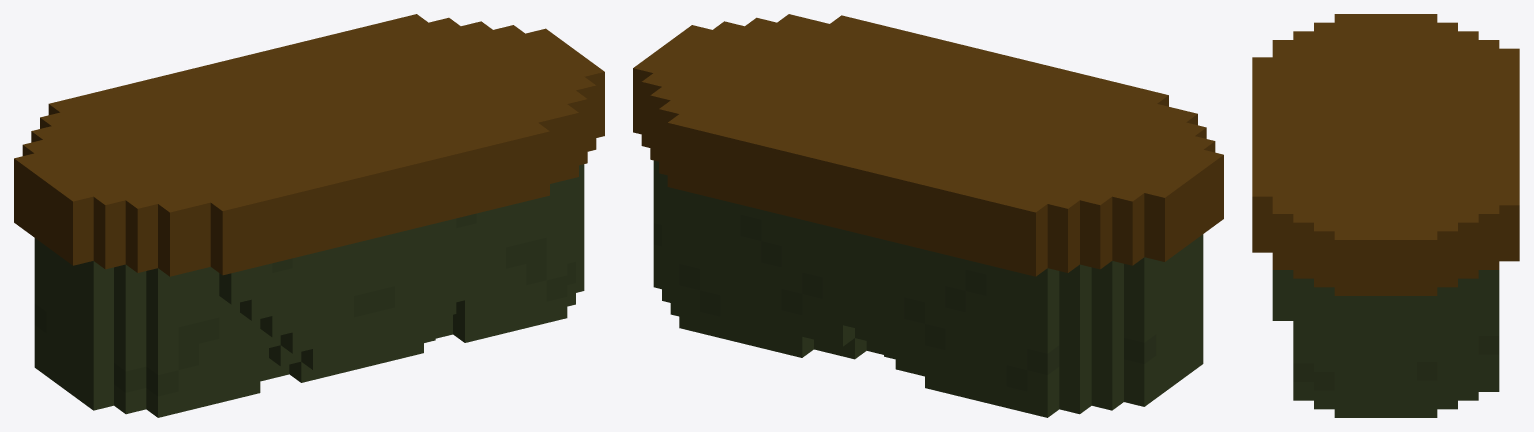
The model's file is Hero-1.obj.
3 views of the same model, side by side, from view 1: azimuth 30°, elevation 25°; view 2: azimuth 150°, elevation 25°; view 3: azimuth 270°, elevation 25° (orthographic). The views are drawn at different scales.
Bounding box in the file's own units: 2.6 × 1 × 1.3.
Materials: 1 (1 with a texture image).
